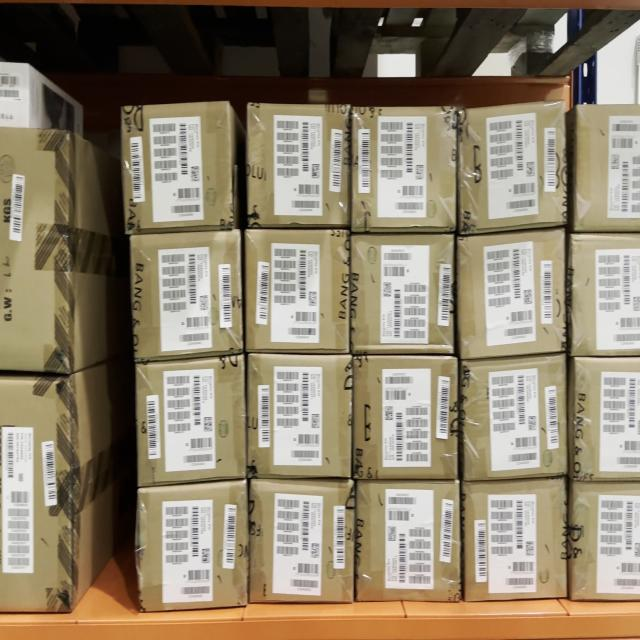box: (244, 229, 349, 351), (124, 104, 227, 228), (247, 355, 353, 475), (353, 108, 455, 230), (135, 363, 245, 475), (139, 487, 243, 605), (246, 105, 350, 222), (135, 232, 239, 349), (251, 481, 354, 598), (462, 108, 564, 226), (464, 482, 568, 596), (355, 355, 456, 472), (352, 235, 453, 350), (461, 239, 565, 349), (357, 484, 458, 596), (464, 362, 562, 477)
